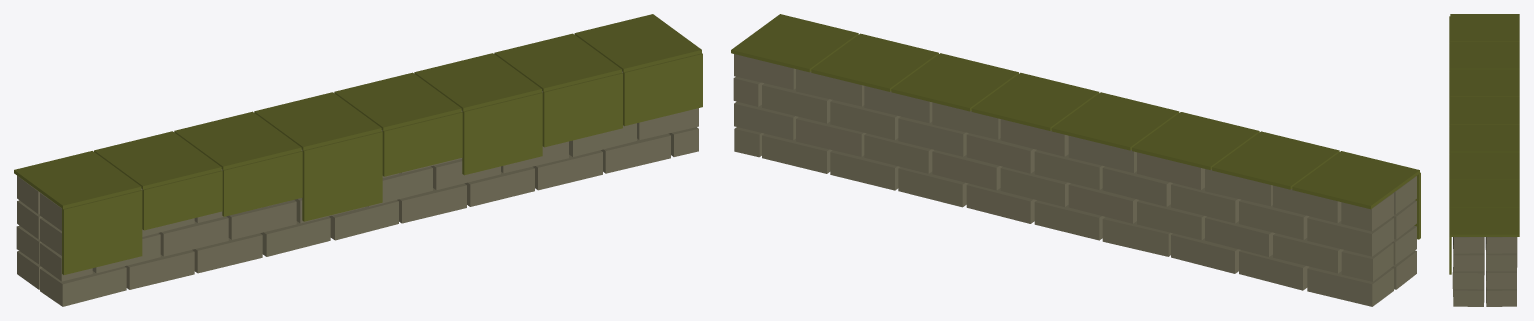
File: SM_MuroSacos_v4_Red_e0_Sano_LOD0.fbx
3 views of the same model, side by side, from view 1: azimuth 30°, elevation 25°; view 2: azimuth 150°, elevation 25°; view 3: azimuth 270°, elevation 25° (orthographic). The views are drawn at different scales.
Visible parts, largest first — view 1: SM_bloques.muro_sacos_estados_v16_LOD0; view 2: SM_bloques.muro_sacos_estados_v16_LOD0; view 3: SM_bloques.muro_sacos_estados_v16_LOD0.
Part boxes in pixels (left/top/right/bottom): SM_bloques.muro_sacos_estados_v16_LOD0: left=14, top=14, right=702, bottom=306; SM_bloques.muro_sacos_estados_v16_LOD0: left=731, top=14, right=1420, bottom=306; SM_bloques.muro_sacos_estados_v16_LOD0: left=1449, top=14, right=1519, bottom=306.
Bounding box in the file's own units: 7.98 × 1.23 × 1.08.
